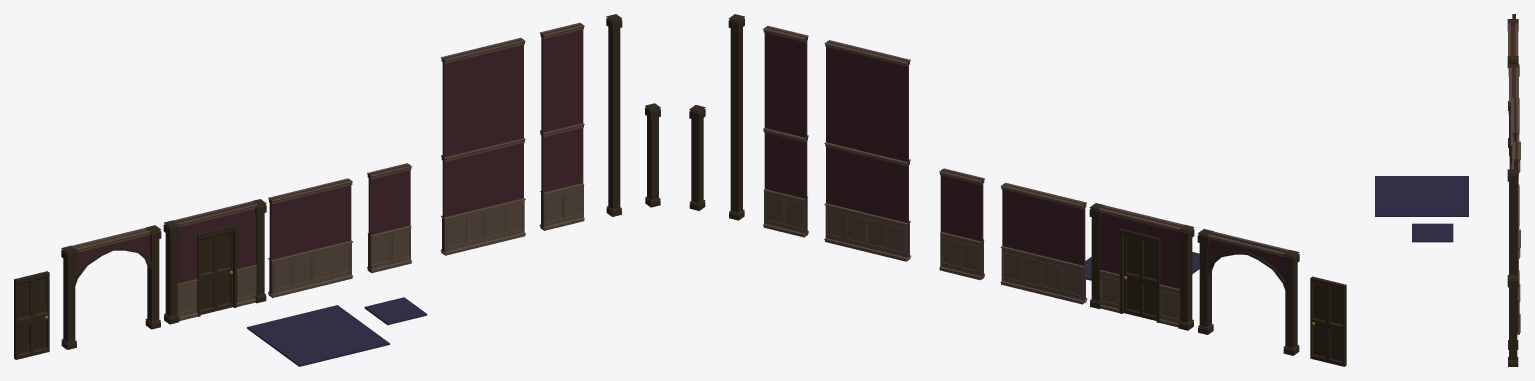
Rendered from MansionInterior.fbx.
The picture shows the model from 3 angles, left to right: view 1: azimuth 30°, elevation 25°; view 2: azimuth 150°, elevation 25°; view 3: azimuth 270°, elevation 25°; orthographic projection. The views are drawn at different scales.
Visible parts, largest first — view 1: pCube1 (×5), pCube2 (×4), Floor_Big, polySurface4, Door1, Pillar_Tall, Door, pCube24, pCube13, Pillar_Short, polySurface6, pCube25 (+3 smaller); view 2: pCube1 (×5), pCube2 (×4), Door1, polySurface4, Pillar_Tall, Door, pCube24, Pillar_Short, pCube13, polySurface11, pCube25, pCube23 (+1 smaller); view 3: Floor_Big, Pillar_Tall, Pillar_Short, Floor_Small, pCube1 (×3), pCube34, pCube25.
Boxes of the visible parts, <box> form: pCube1 (×5): <box>75,24,583,296</box>; pCube2 (×4): <box>271,185,583,294</box>; Floor_Big: <box>247,305,389,366</box>; polySurface4: <box>172,202,257,283</box>; Door1: <box>14,271,49,359</box>; Pillar_Tall: <box>606,14,622,216</box>; Door: <box>200,229,232,314</box>; pCube24: <box>61,245,77,349</box>; pCube13: <box>163,220,179,324</box>; Pillar_Short: <box>645,103,660,207</box>; polySurface6: <box>177,266,256,316</box>; pCube25: <box>145,225,161,329</box>; pCube1 (×5): <box>764,27,1285,302</box>; pCube2 (×4): <box>764,191,1083,300</box>; Door1: <box>1310,276,1346,366</box>; polySurface4: <box>1099,206,1185,288</box>; Pillar_Tall: <box>728,14,744,220</box>; Door: <box>1124,234,1156,320</box>; pCube24: <box>1283,249,1299,355</box>; Pillar_Short: <box>689,105,705,210</box>; pCube13: <box>1178,224,1194,330</box>; polySurface11: <box>1099,271,1179,323</box>; pCube25: <box>1197,229,1213,334</box>; pCube23: <box>1089,203,1104,308</box>; Floor_Big: <box>1375,176,1468,216</box>; Pillar_Tall: <box>1507,169,1518,349</box>; Pillar_Short: <box>1507,275,1518,366</box>; Floor_Small: <box>1412,223,1453,242</box>; pCube1 (×3): <box>1511,25,1517,333</box>; pCube34: <box>1516,98,1519,136</box>; pCube25: <box>1507,56,1518,147</box>.
Size of the model in its own units: 405 by 119 by 88.52.
